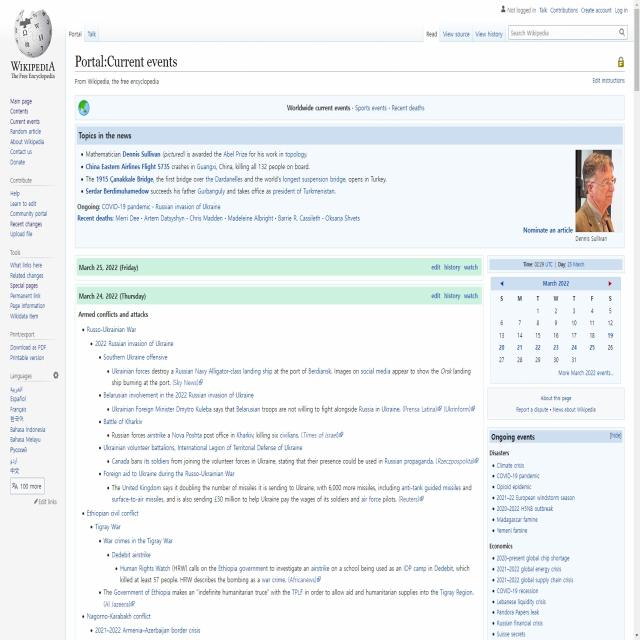menu-bar: (537, 3, 630, 17)
menu-panel: (420, 23, 504, 44), (64, 23, 100, 44)
search: (506, 21, 629, 41)
side-panel: (487, 429, 626, 639)
